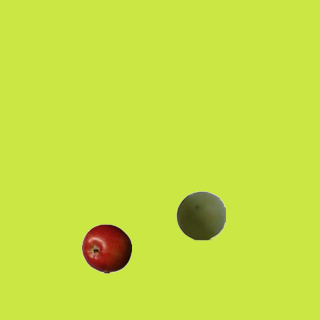Apple Braeburn: (81, 223, 131, 273)
Grape White 4: (175, 190, 225, 240)
